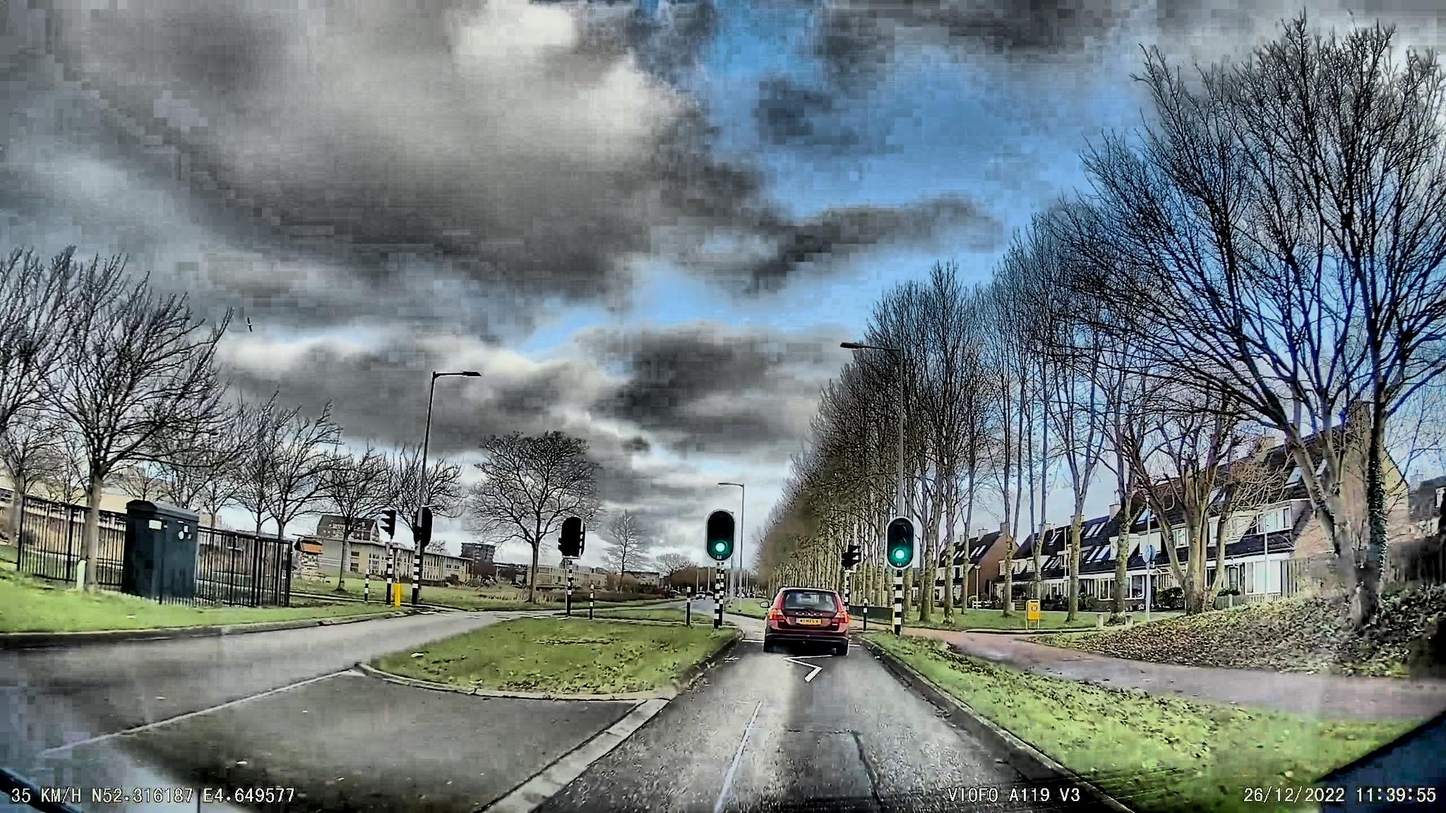Roads: (529, 644, 1120, 813), (0, 614, 507, 767)
